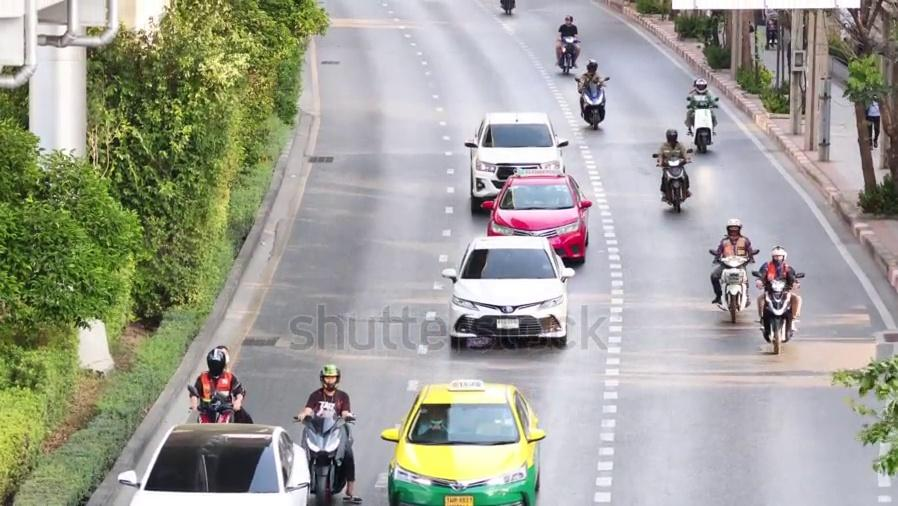person: (865, 96, 881, 148)
rider: (297, 363, 362, 503), (187, 345, 252, 423), (752, 245, 802, 334), (708, 217, 755, 308), (656, 128, 692, 201), (685, 78, 718, 135), (576, 59, 605, 116), (555, 15, 580, 68)
with_helmate: (315, 360, 341, 391), (204, 348, 226, 379), (723, 219, 745, 239), (690, 78, 710, 94), (771, 245, 786, 266), (585, 61, 602, 76), (663, 130, 681, 143)
